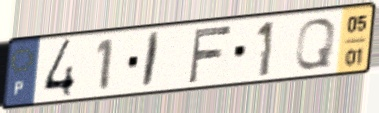1: (255, 18, 277, 78), (94, 37, 116, 92)
4: (40, 37, 78, 101)
F: (186, 23, 235, 86)
I: (139, 30, 163, 91)
Q: (292, 16, 339, 72)
